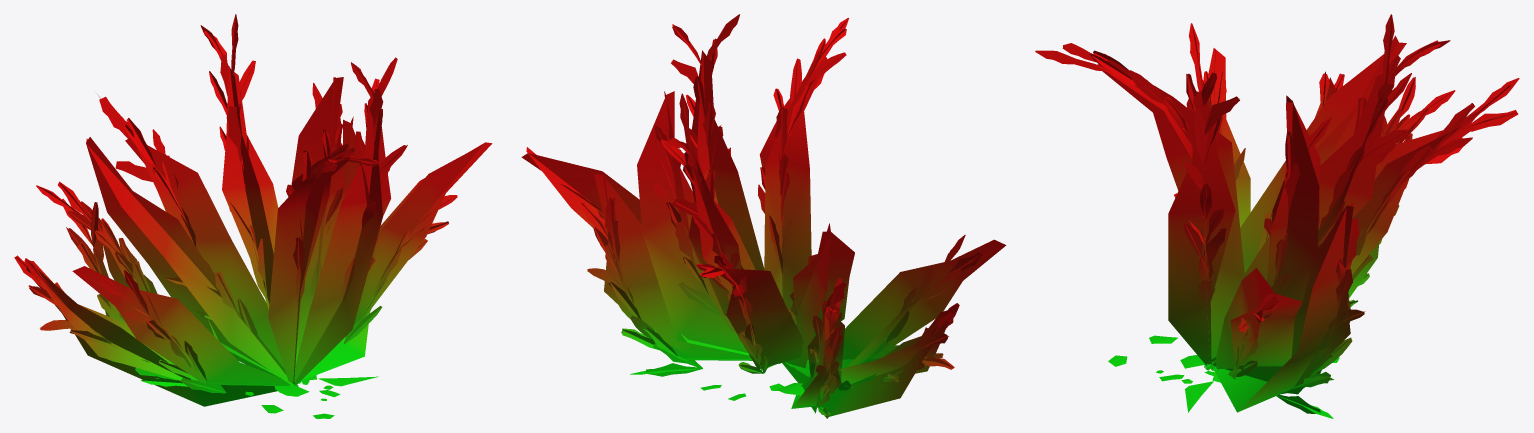
The model's file is River Saltbush_LOD1_Var8_vdfpcgbia.fbx.
3 views of the same model, side by side, from view 1: azimuth 30°, elevation 25°; view 2: azimuth 150°, elevation 25°; view 3: azimuth 270°, elevation 25° (orthographic). The views are drawn at different scales.
Parts seen in each view (by area): view 1: _ctz4_Var8_LOD1; view 2: _ctz4_Var8_LOD1; view 3: _ctz4_Var8_LOD1.
Boxes of the visible parts, left/top/right/bottom form: _ctz4_Var8_LOD1: left=14, top=14, right=492, bottom=418; _ctz4_Var8_LOD1: left=521, top=14, right=1006, bottom=418; _ctz4_Var8_LOD1: left=1035, top=14, right=1519, bottom=418.
Size of the model in its own units: 27.76 by 20.17 by 22.26.
